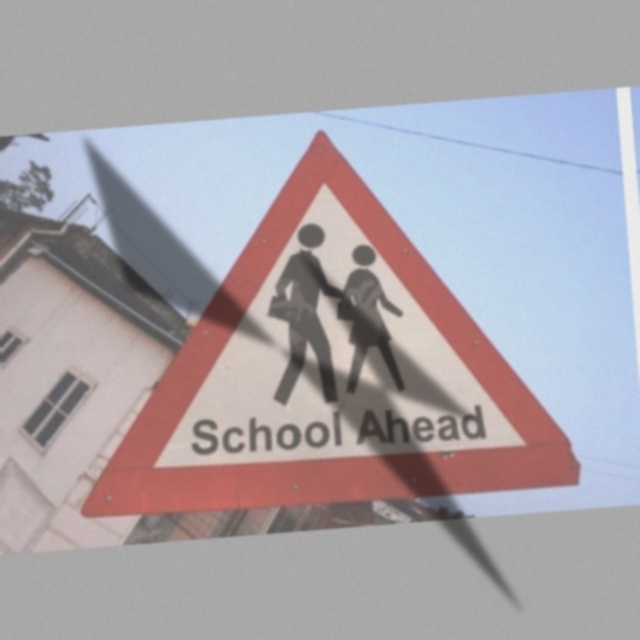School_Ahead: (108, 117, 560, 512)
